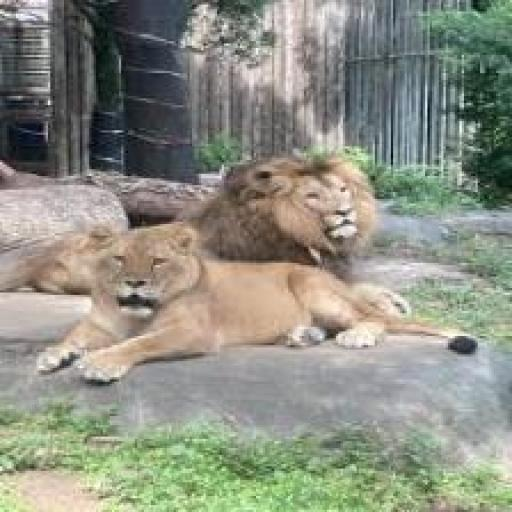lion: (28, 220, 401, 396), (98, 119, 398, 249)
